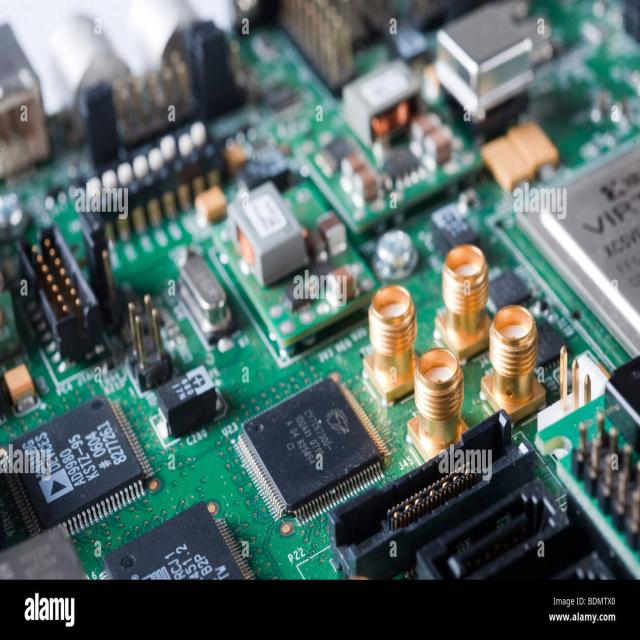mobile phone: (174, 243, 236, 343)
pcb: (1, 1, 638, 584), (209, 176, 380, 366), (513, 135, 639, 358), (236, 374, 383, 524), (5, 393, 146, 535), (414, 477, 570, 581), (434, 0, 553, 125), (99, 500, 248, 580), (228, 178, 309, 288), (0, 21, 52, 178), (341, 58, 423, 149), (155, 363, 218, 438)
